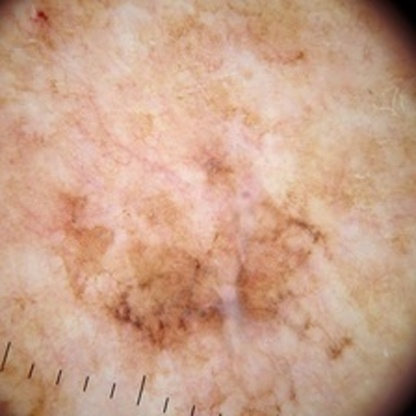malignant: (70, 125, 320, 341)
